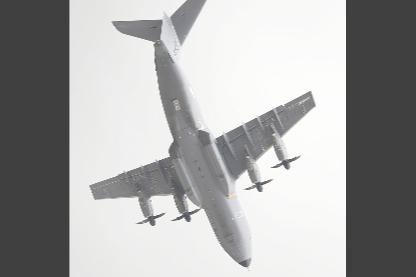A400M: (88, 0, 317, 270)
